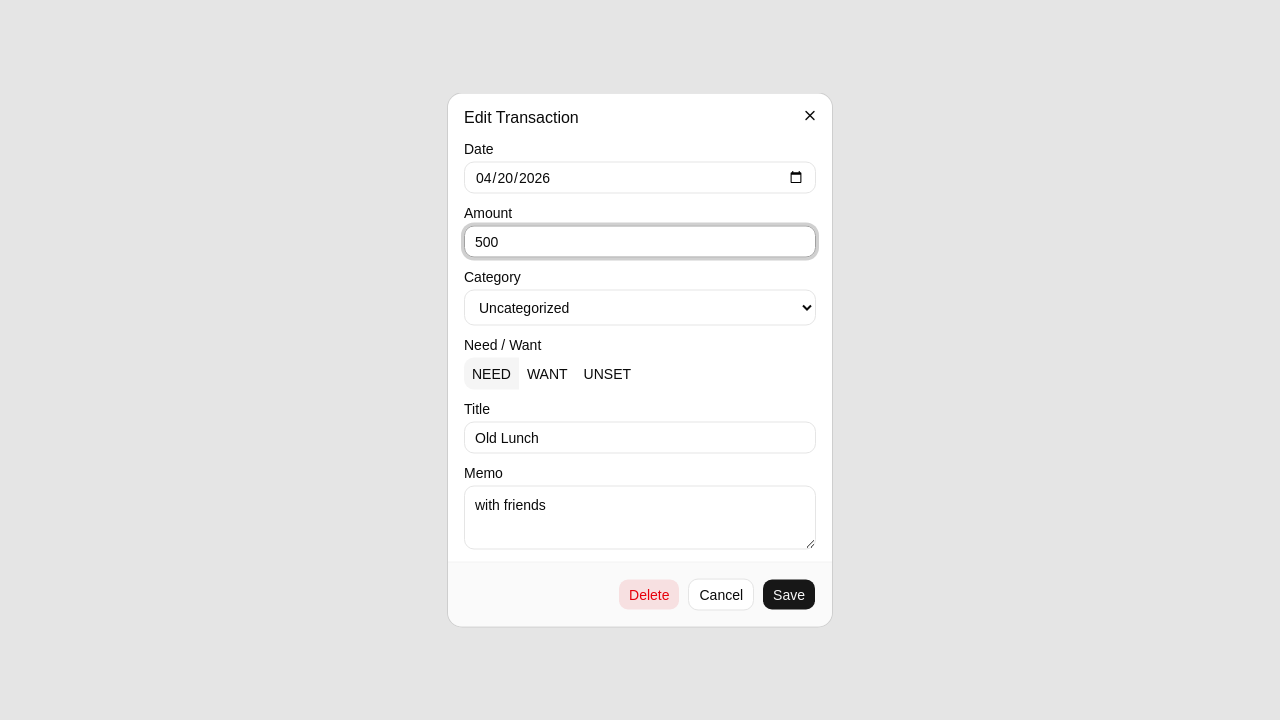
TransactionFormModal › edit mode › opens the delete confirm dialog when the Delete button is clicked
Click the button "Delete". click: (649, 594)
box: [618, 578, 680, 610]
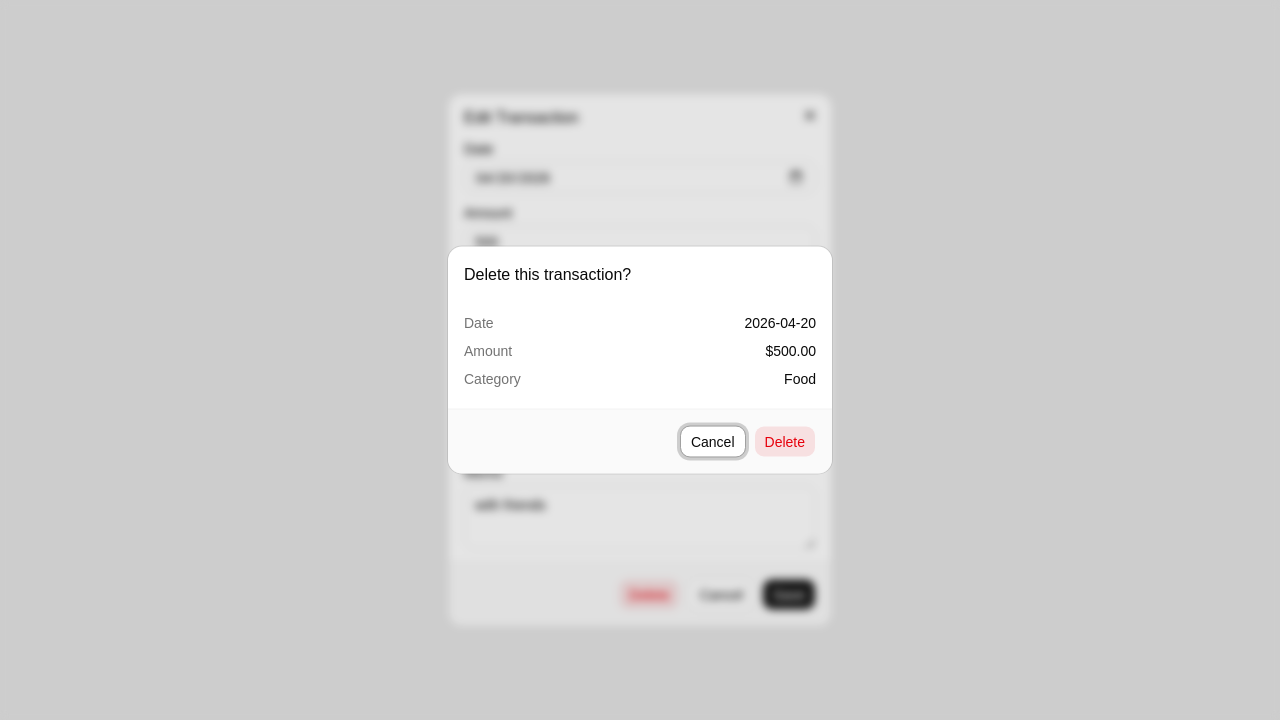
Check: the dialog that starts with "Delete this transaction?" is shown, box [448, 246, 832, 474]
Check: the heading "Delete this transaction?" is shown, box [464, 262, 631, 286]
